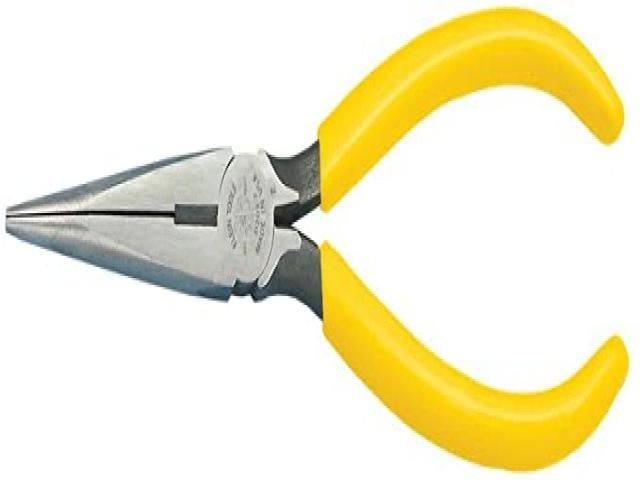Needle-nose pliers: (6, 9, 628, 468)
